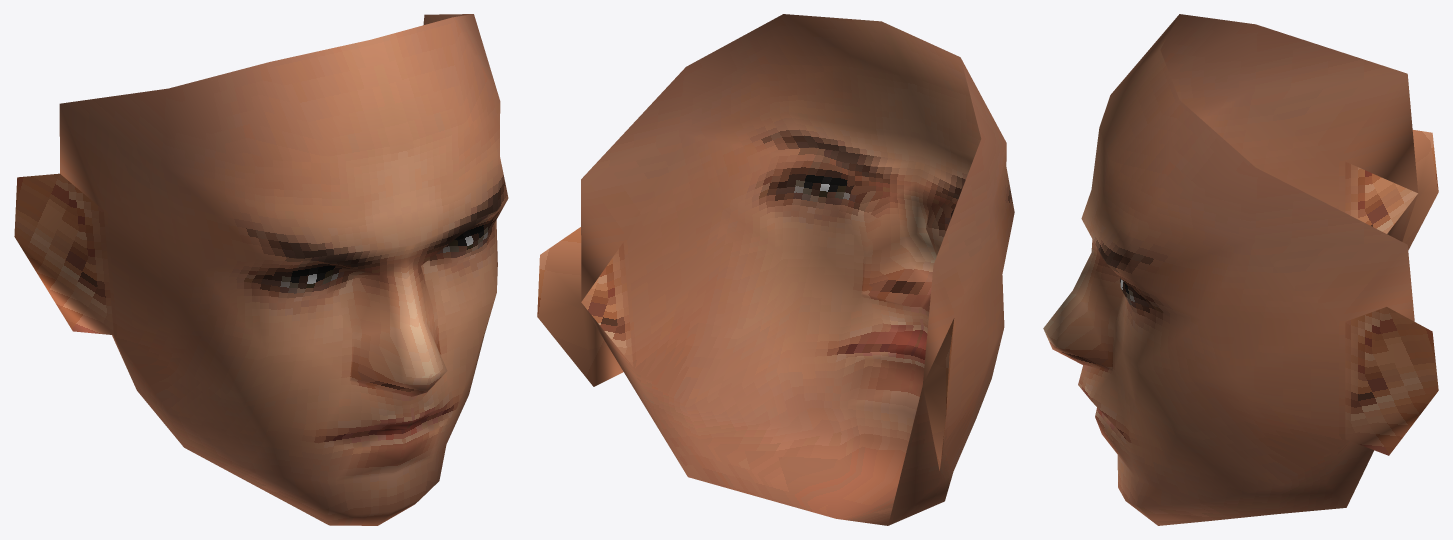
The picture shows the model from 3 angles, left to right: view 1: azimuth 30°, elevation 25°; view 2: azimuth 150°, elevation 25°; view 3: azimuth 270°, elevation 25°; orthographic projection. The views are drawn at different scales.
Visible parts, largest first — view 1: editpl_m-0000-108, editpl_m-0000-107; view 2: editpl_m-0000-108, editpl_m-0000-107; view 3: editpl_m-0000-108, editpl_m-0000-107.
Boxes of the visible parts, <box> form: editpl_m-0000-108: <box>14,14,508,444</box>; editpl_m-0000-107: <box>112,335,468,525</box>; editpl_m-0000-108: <box>537,14,1014,470</box>; editpl_m-0000-107: <box>582,259,970,525</box>; editpl_m-0000-108: <box>1043,14,1438,485</box>; editpl_m-0000-107: <box>1043,194,1417,525</box>.
Size of the model in its own units: 17.18 by 18.64 by 14.45.
Materials: 1 (1 with a texture image).
